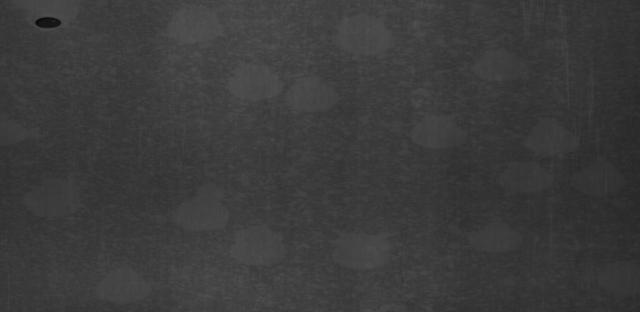punching_hole: (31, 14, 62, 30)
